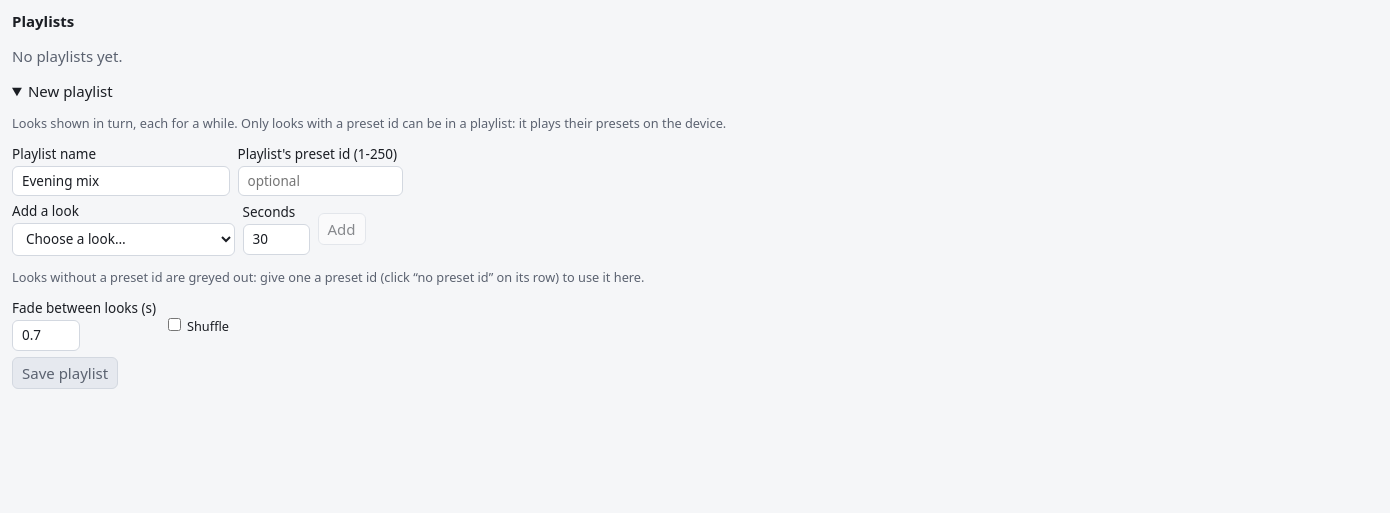
builds a playlist from looks with preset ids; the others are offered greyed out, with the reason
Earlier steps of the test are not shown.
Later steps or results of the test are not shown.
Type "20" into the field labelled "Playlist's preset id (1-250)" at (320,181), box x1=238 y1=166 x2=402 y2=196
Select "Calm" in the dropdown labelled "Add a look" at (124,239), box x1=12 y1=223 x2=235 y2=256
Replace the text in the field labelled "Seconds" with "45" at (276,239), box x1=242 y1=224 x2=310 y2=254
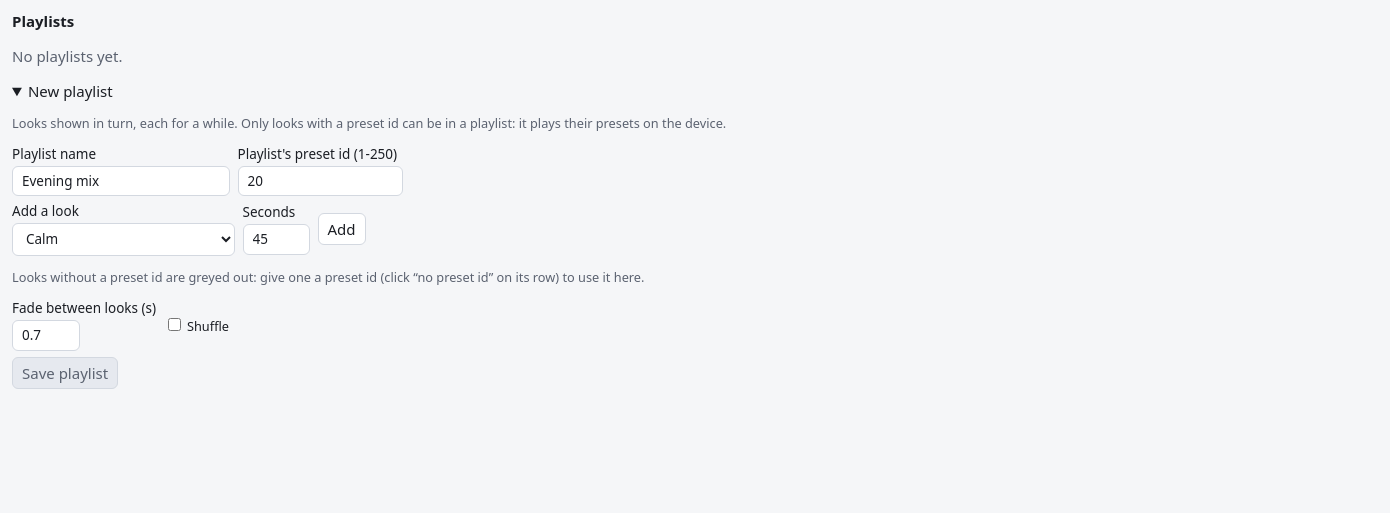
Click the button "Add" at (342,229), box x1=318 y1=212 x2=366 y2=245
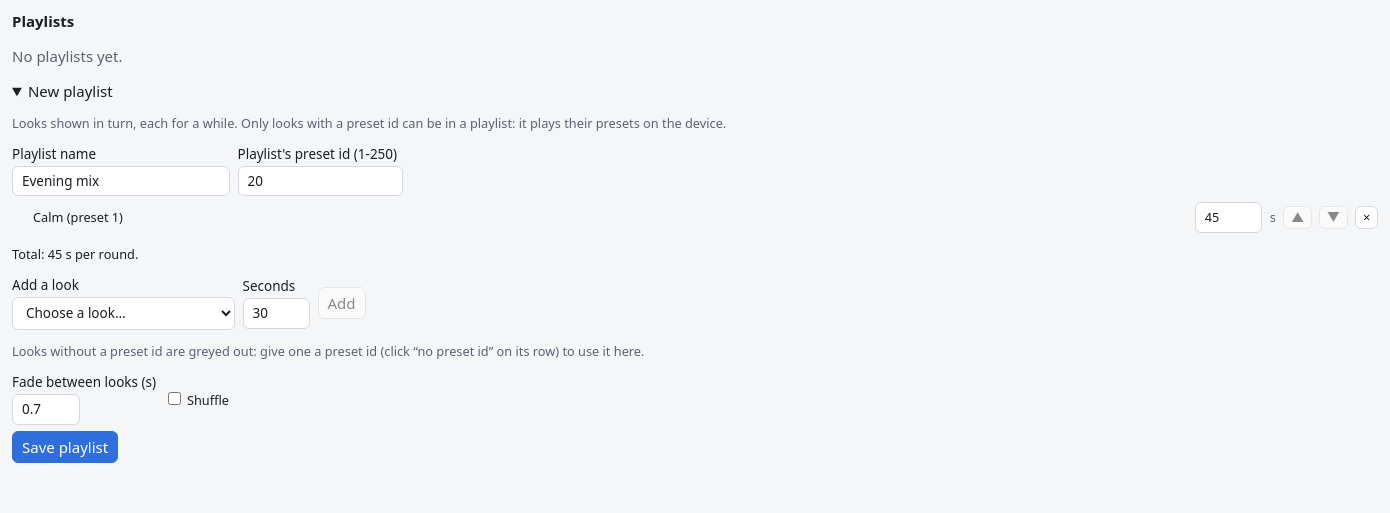
Select "Party" in the dropdown labelled "Add a look" at (124,313), box x1=12 y1=297 x2=235 y2=330
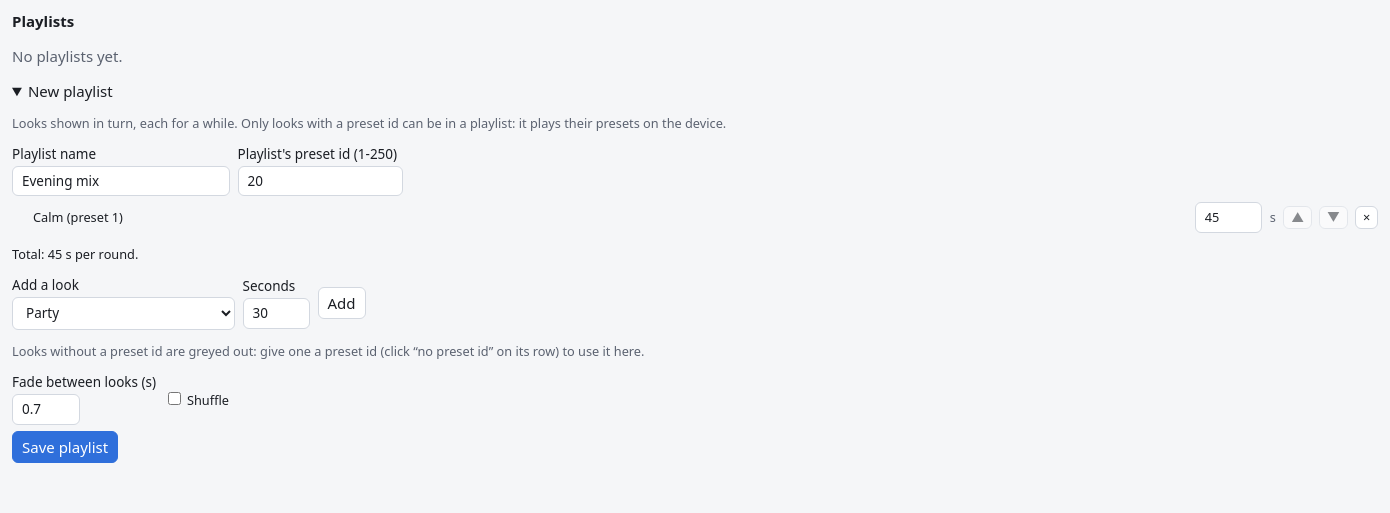
Click the button "Add" at (342,303), box x1=318 y1=286 x2=366 y2=319
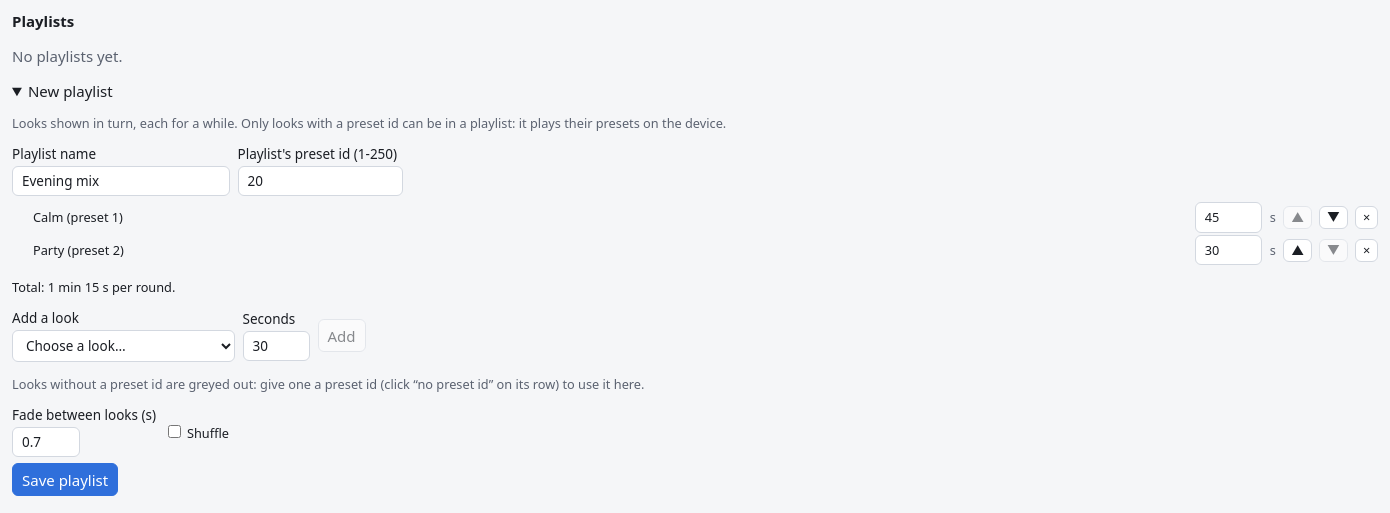
expect the field labelled "Seconds" holds "30": met, box x1=242 y1=331 x2=310 y2=361
expect the text named "Total duration" reads "Total: 1 min 15 s per round.": met, box x1=12 y1=278 x2=175 y2=296
Click the button named "Move Party up" at (1298,250), box x1=1283 y1=238 x2=1312 y2=262
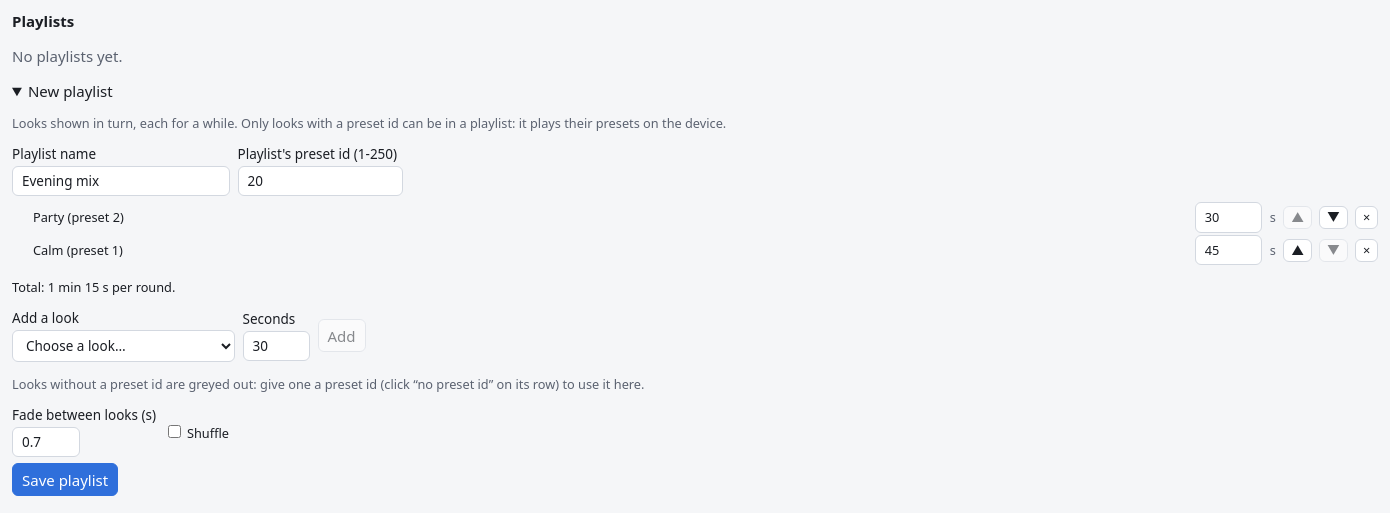
Replace the text in the field named "Seconds for Party" with "15" at (1229,217), box x1=1195 y1=202 x2=1262 y2=232
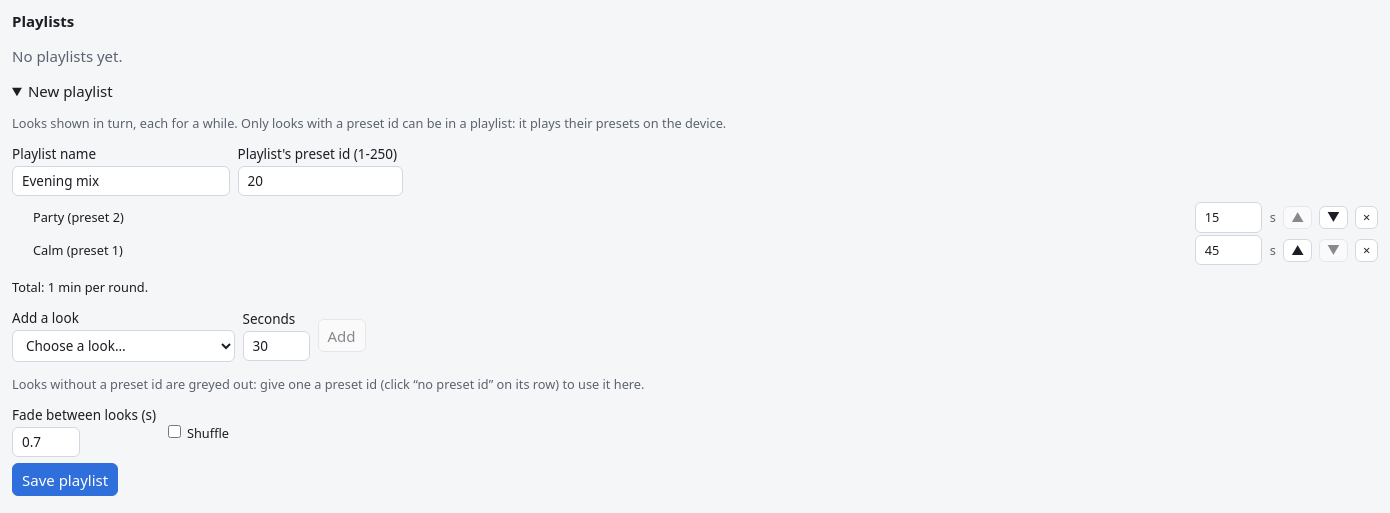
expect the text named "Total duration" reads "Total: 1 min per round.": met, box x1=12 y1=278 x2=148 y2=296
